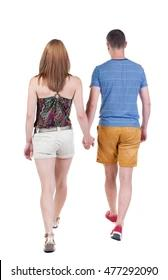Shorts: (96, 123, 141, 167), (32, 126, 75, 159)
short sleeve shirt: (88, 58, 148, 127)
vest: (36, 91, 74, 130)
